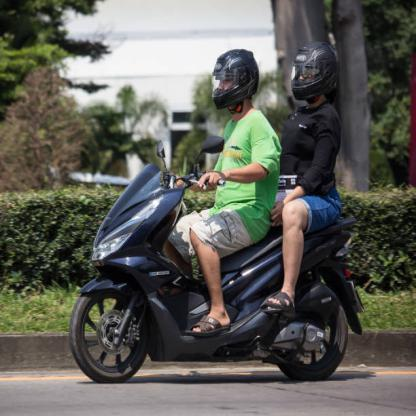Motorcycle: (68, 151, 353, 387)
